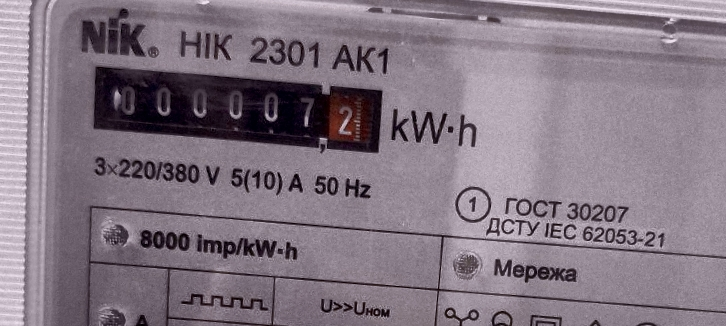0: (186, 83, 212, 123), (115, 81, 140, 118), (258, 88, 282, 126), (224, 87, 247, 125), (152, 83, 175, 120)
2: (333, 102, 357, 140)
7: (294, 92, 318, 132)
screen: (83, 56, 393, 164)
